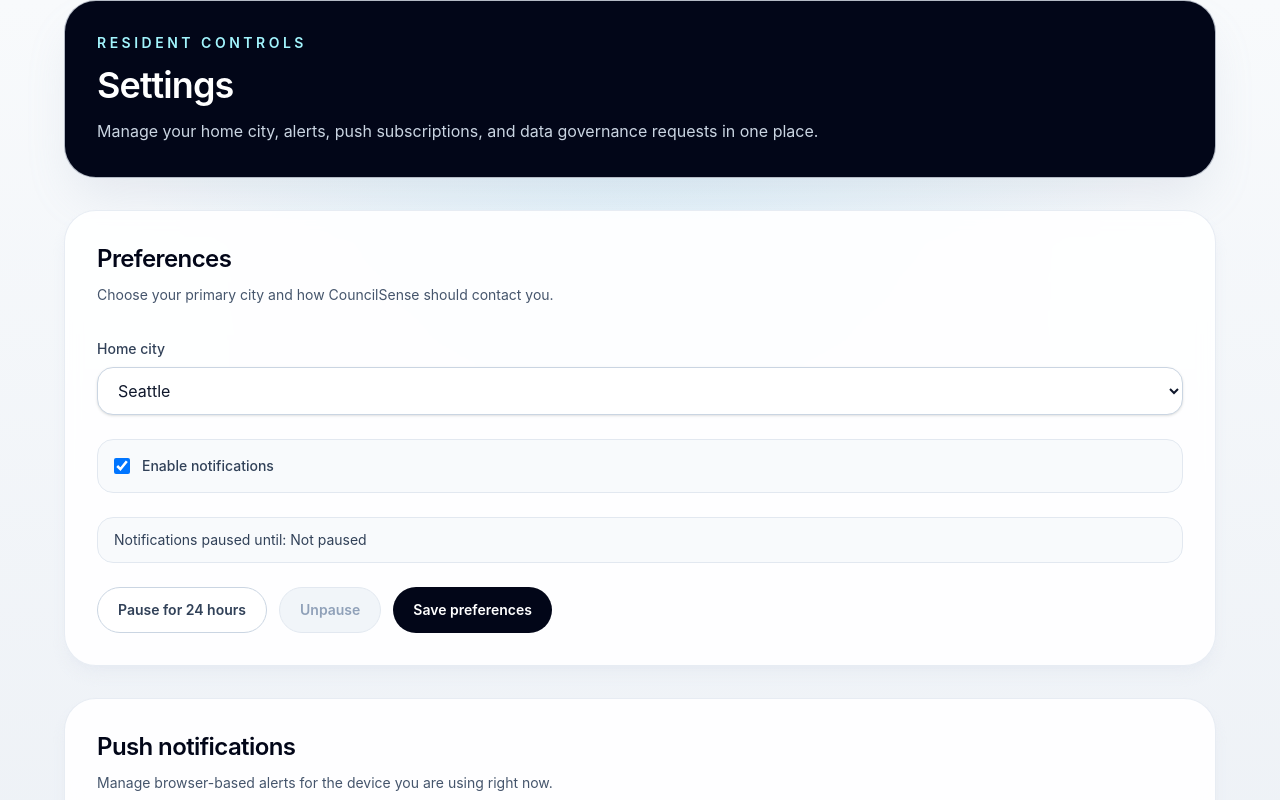
Scenario: SettingsPreferencesForm › supports pause and unpause actions
The image size is (1280, 800).
Click the button "Pause for 24 hours" at (182, 610), box [97,587,267,633]
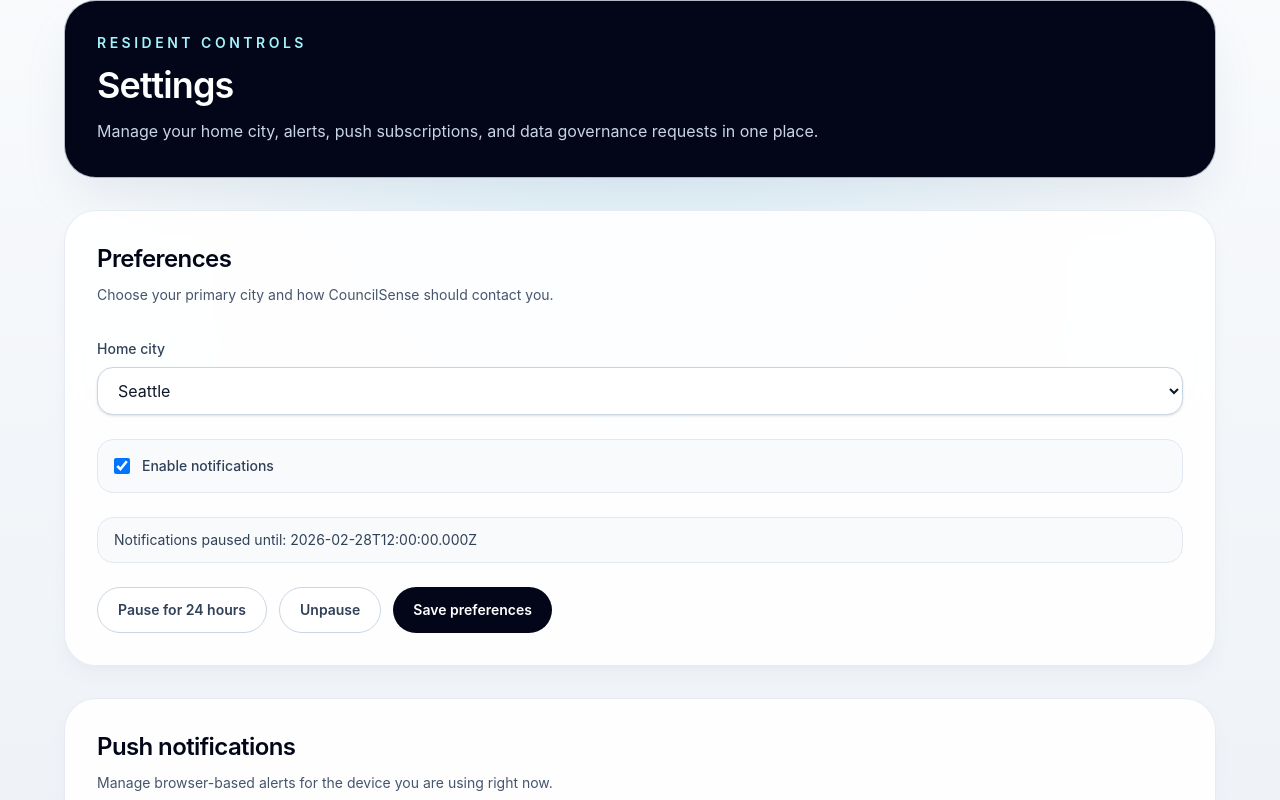
Now the text "Notifications paused until: 2026-02-28T12:00:00.000Z" is shown, box [97,517,1183,563]
Click the button "Unpause" at (330, 610), box [279,587,381,633]
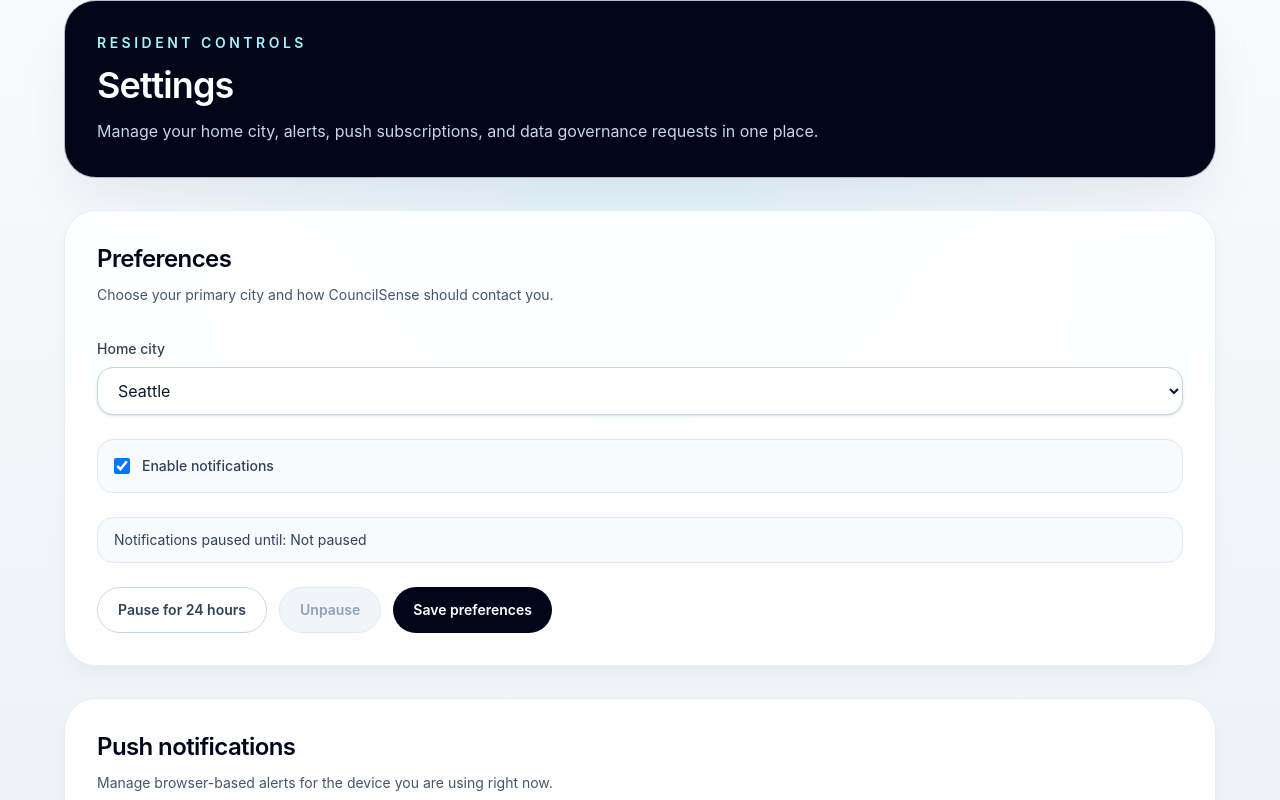
Now the text "Notifications paused until: Not paused" is shown, box [97,517,1183,563]
